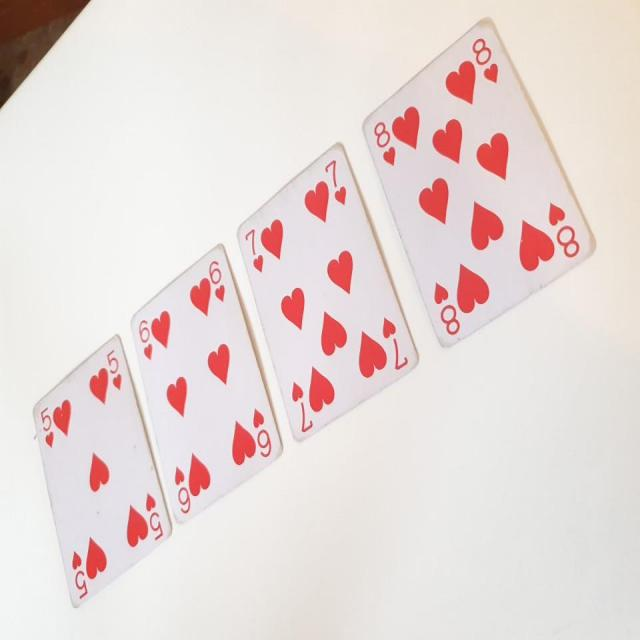5 Hearts: (23, 328, 176, 607)
6 Hearts: (123, 242, 286, 525)
7 Hearts: (233, 139, 428, 448)
8 Hearts: (348, 19, 602, 350)
